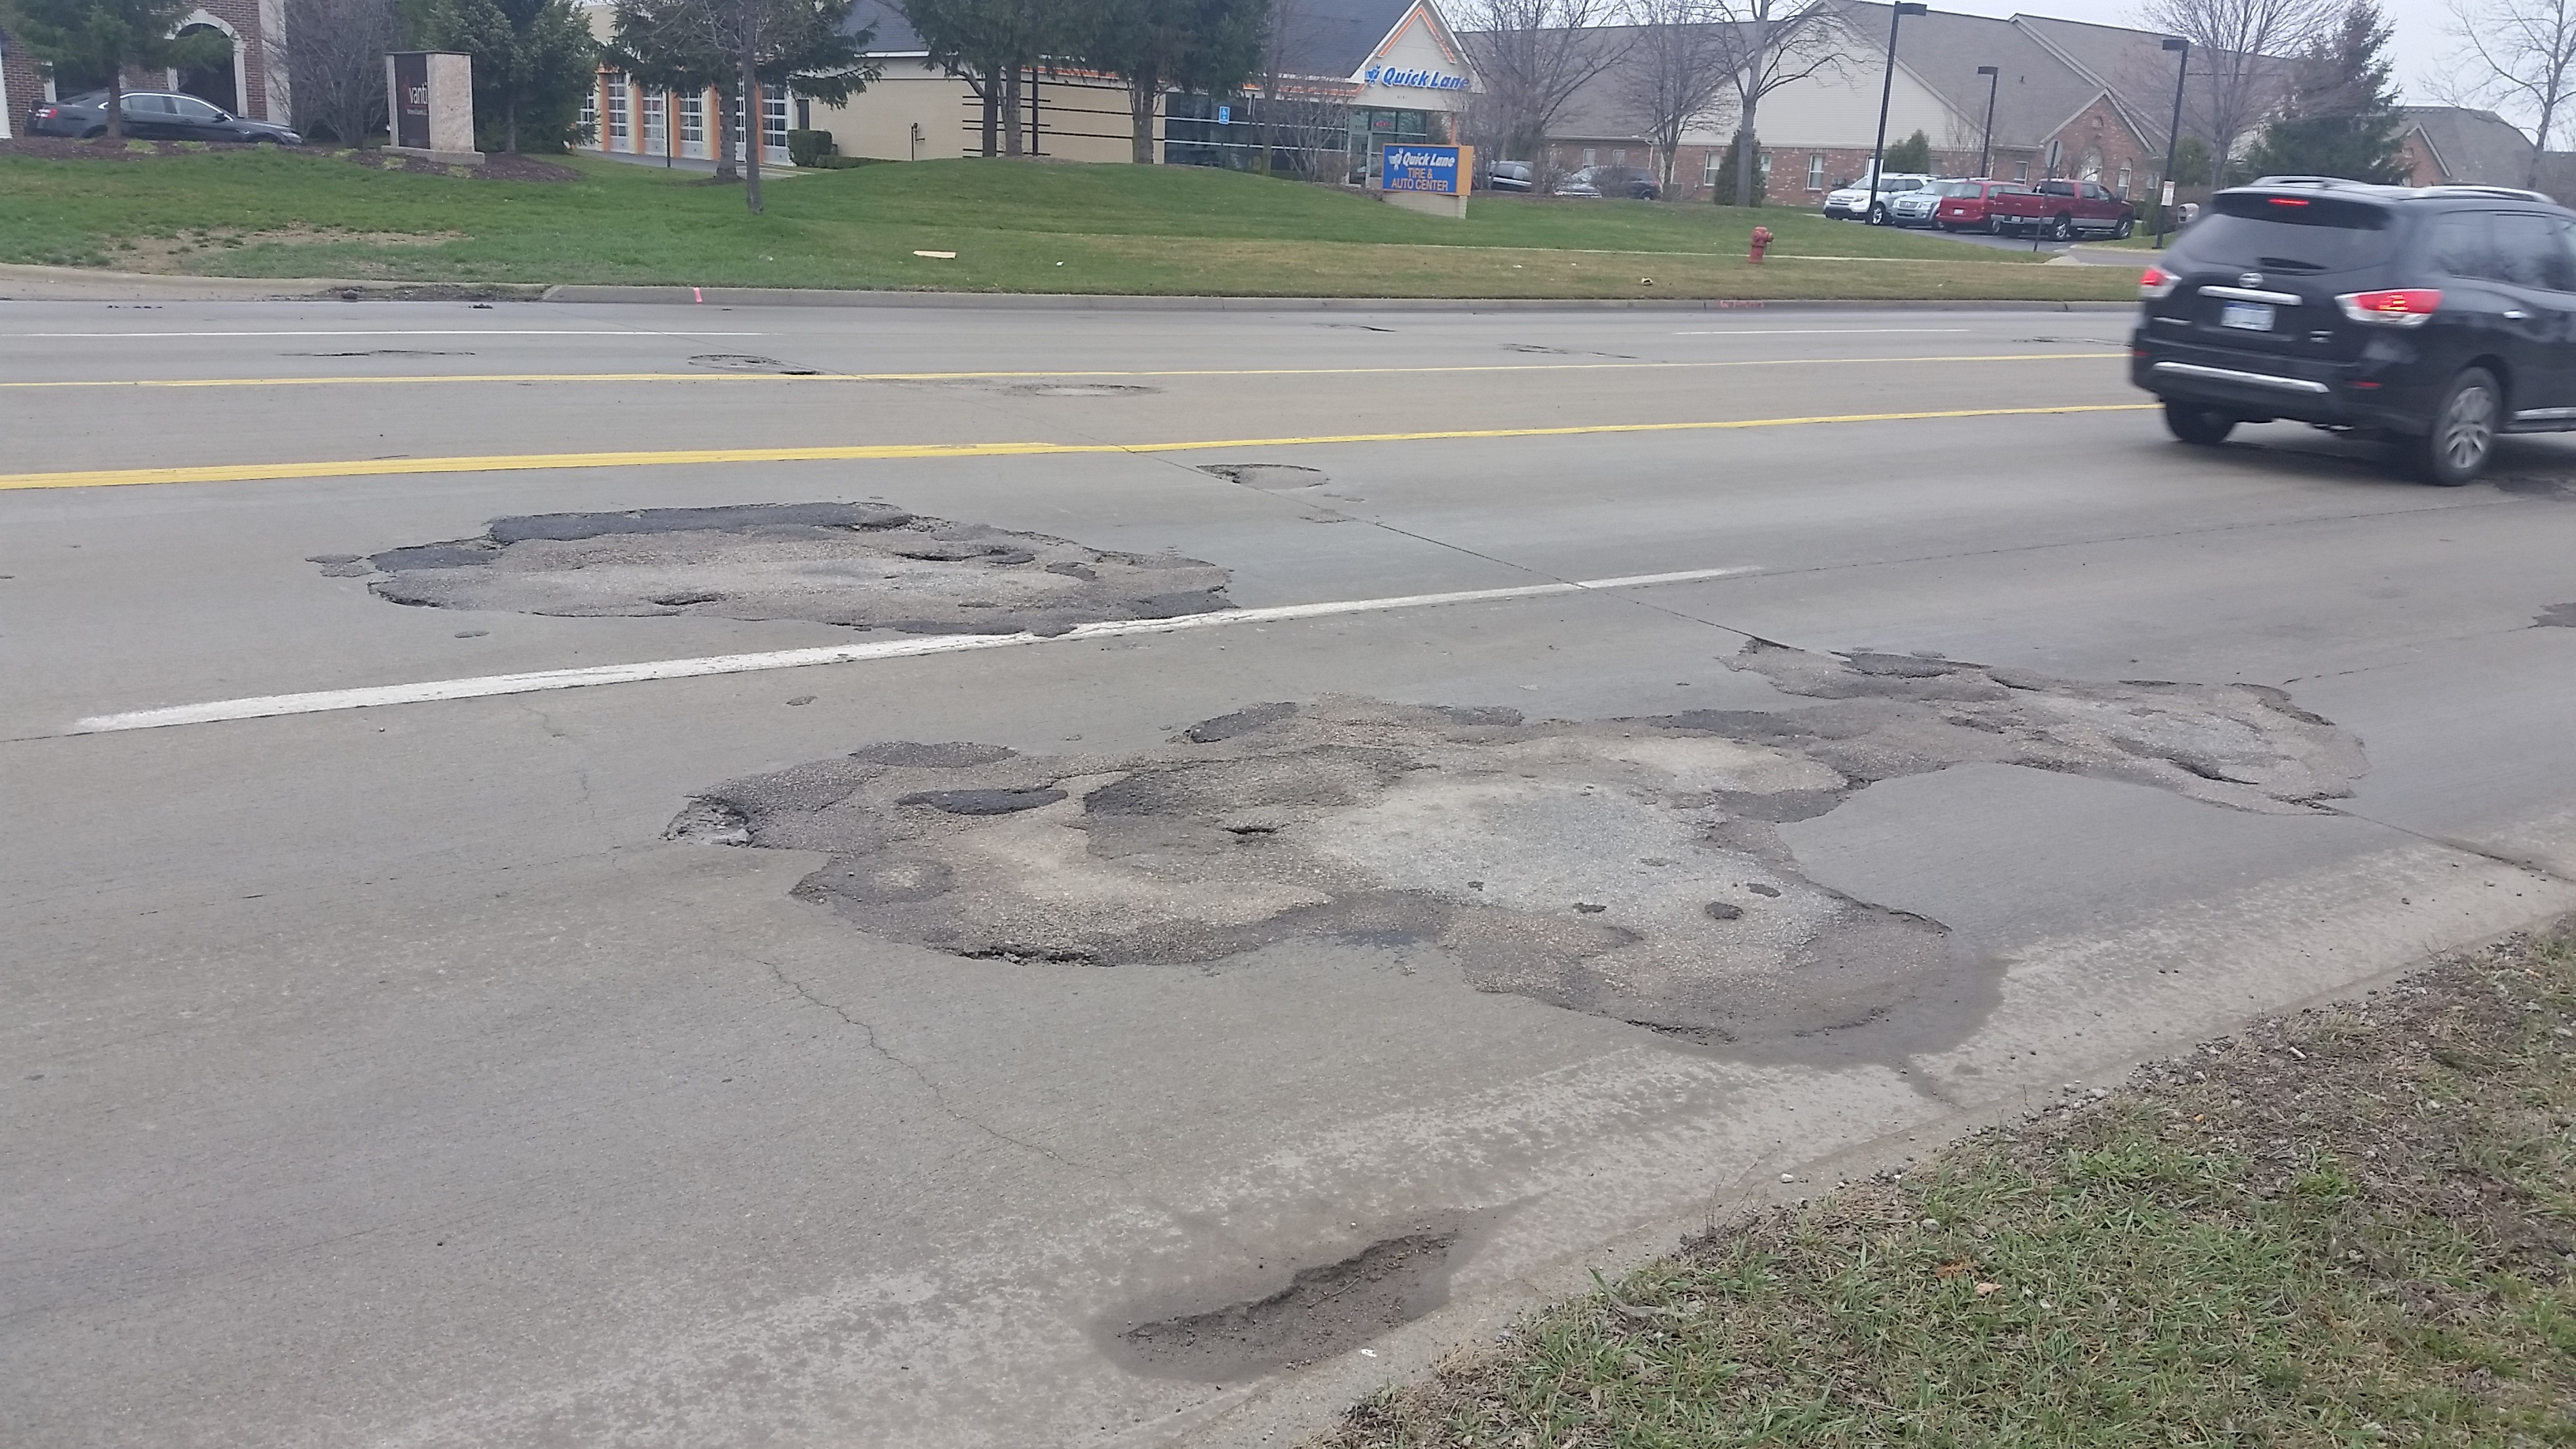pothole: (626, 570, 2330, 1083), (294, 395, 1376, 686)
